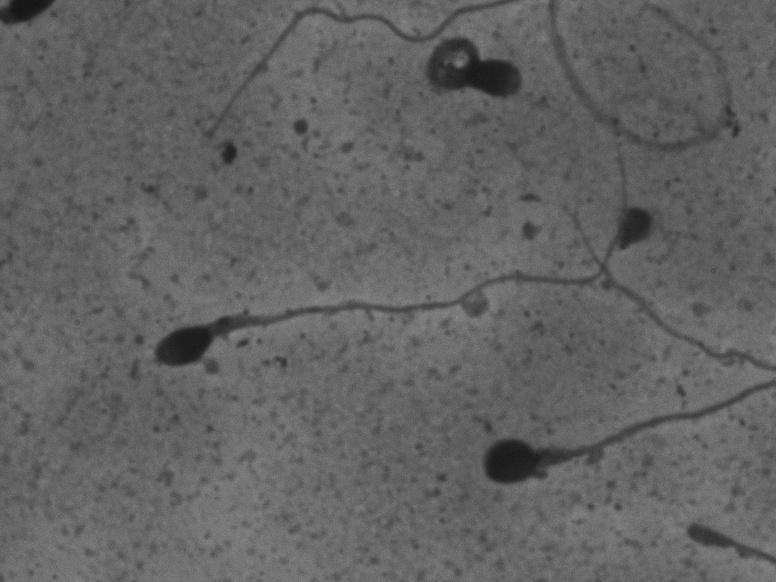Abnormal: (123, 103, 636, 380), (462, 361, 769, 502), (413, 23, 521, 122)
